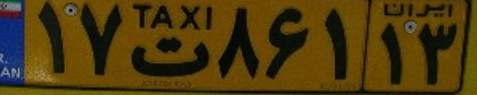character: (129, 1, 217, 85), (130, 33, 216, 88), (262, 1, 312, 93), (216, 2, 266, 92), (74, 1, 128, 82), (314, 2, 358, 93), (33, 1, 73, 80), (417, 20, 461, 90), (376, 21, 408, 91), (176, 1, 202, 33), (151, 1, 174, 33), (130, 1, 152, 32), (201, 1, 218, 34)
